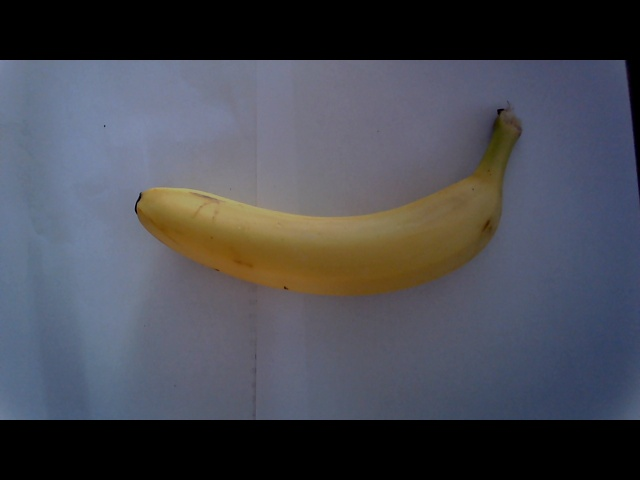banana: (130, 144, 522, 311)
